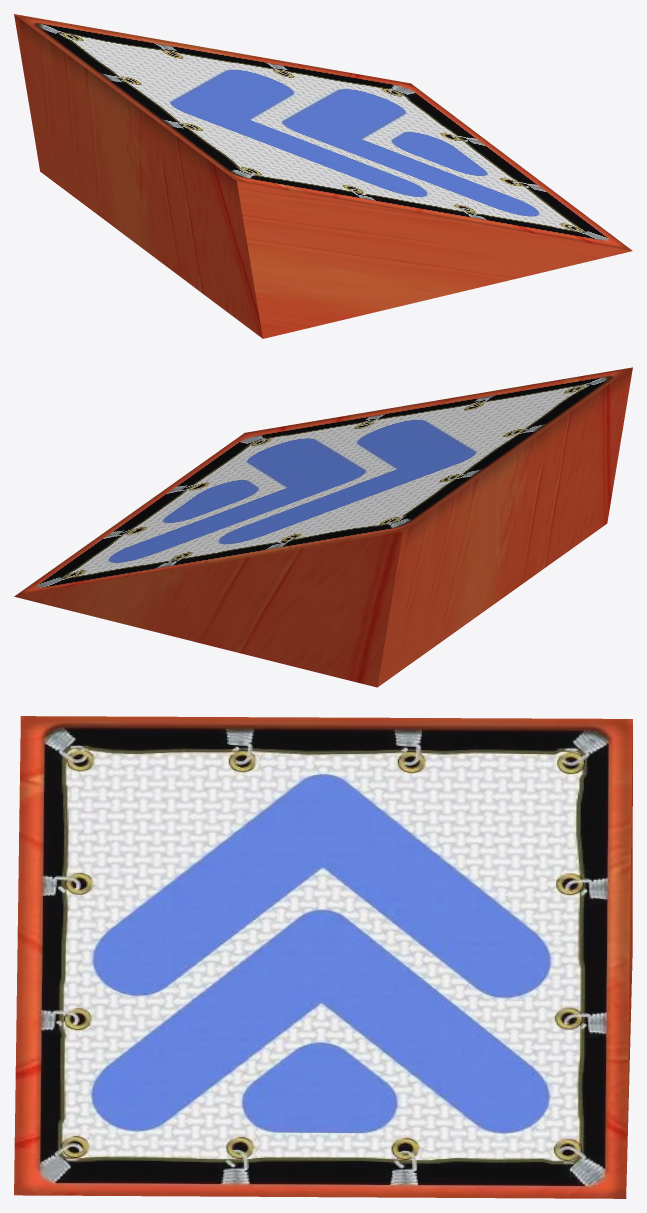
File: jump_pad.glb
3 renders of one model, top to bottom at view 1: azimuth 30°, elevation 25°; view 2: azimuth 150°, elevation 25°; view 3: azimuth 270°, elevation 25°, orthographic. The views are drawn at different scales.
Visible parts, largest first — view 1: jump_pad; view 2: jump_pad; view 3: jump_pad.
Boxes of the visible parts, x1,y1,x2,y2 form: jump_pad: (14, 14, 632, 338); jump_pad: (14, 367, 632, 687); jump_pad: (14, 716, 632, 1198).
Size of the model in its own units: 1.01 by 0.3976 by 1.01.
1 material, 1 textured.
